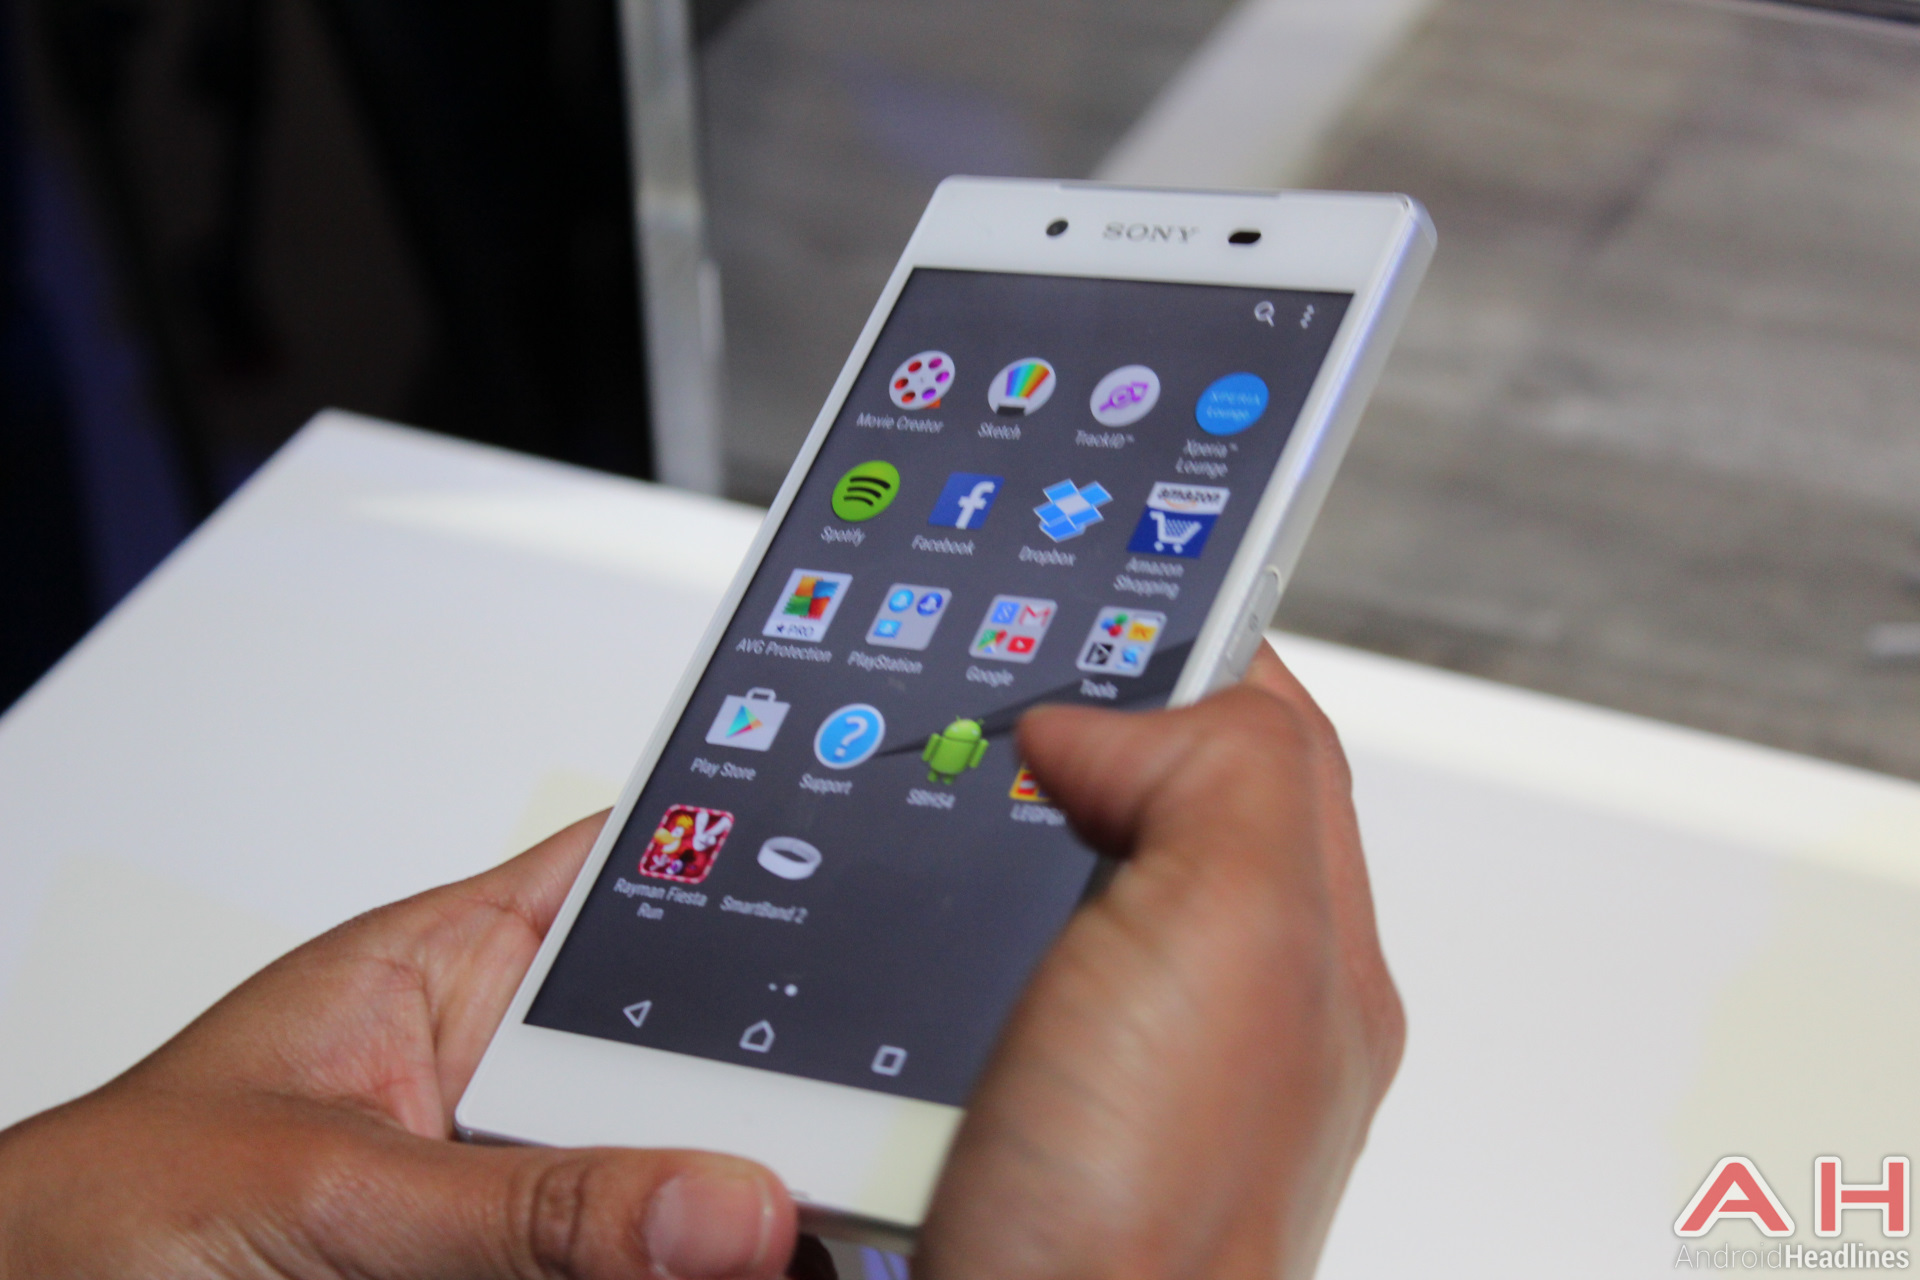smartphone: (451, 173, 1439, 1259)
